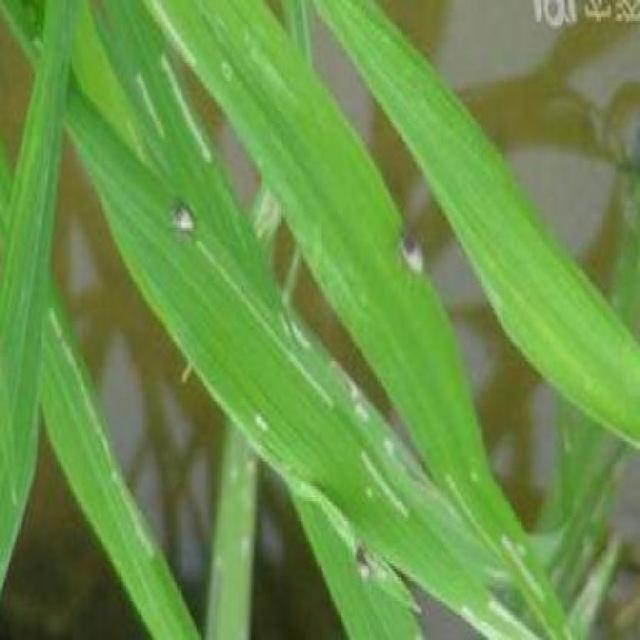rice-bug: (399, 232, 426, 274), (355, 543, 379, 582), (171, 195, 192, 234)
